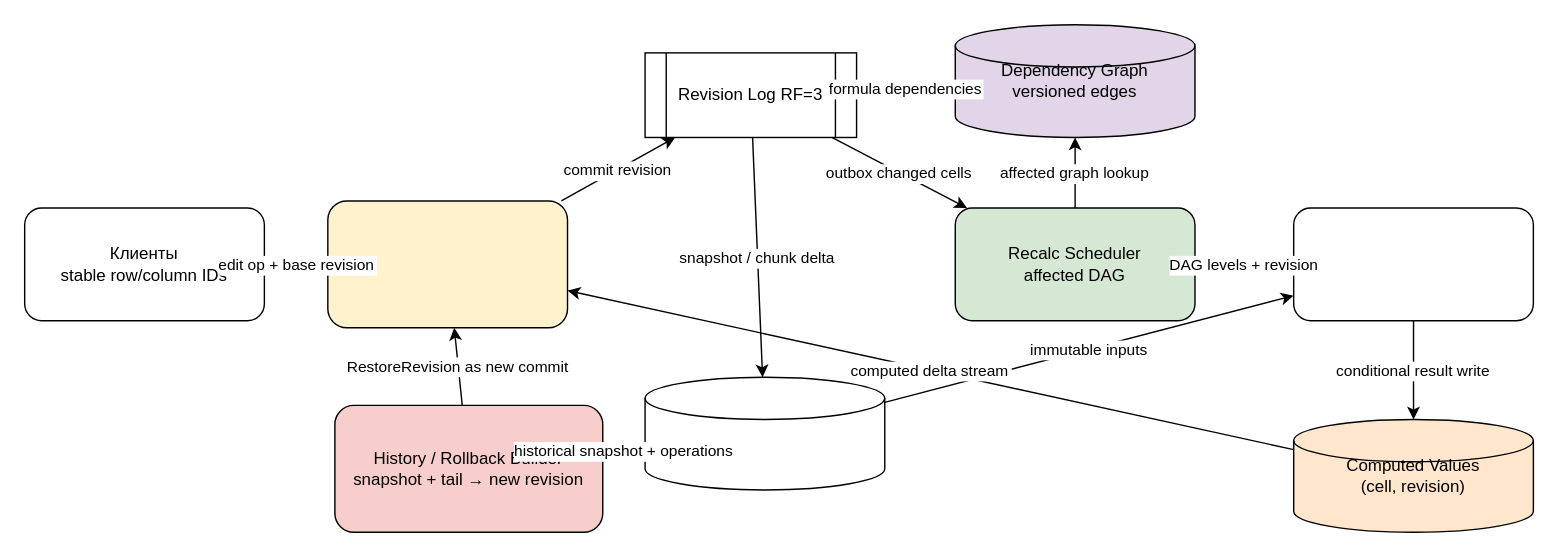
This 1558x557 diagram has some shape labels left out. The shapes that lost their labels are listed below. From the top down, each one's centre as x and y in pixels, then its label:
At [447,264]: "Workbook Session ACL + op dedupe cell conflict markers".
At [1412,264]: "Calculation Workers revision snapshot".
At [764,433]: "Cell Chunks + Snapshots".
